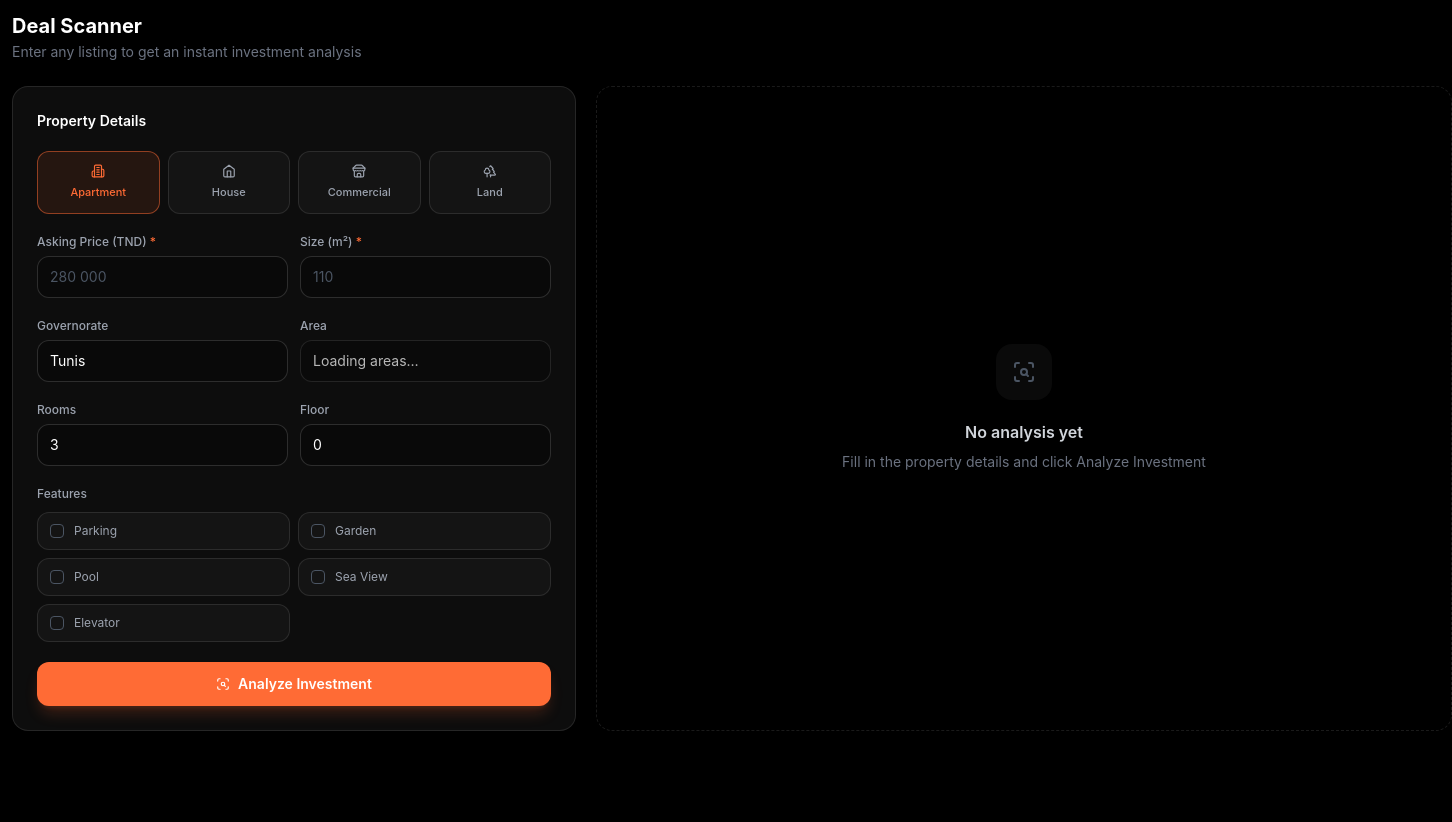
Scenario: ScannerPage result › shows a falling forecast with its sign and real listing counts
The width and height of the screenshot is (1452, 822).
Type "250000" into the number field with placeholder "280 000" at (162, 276), box [37, 256, 288, 298]
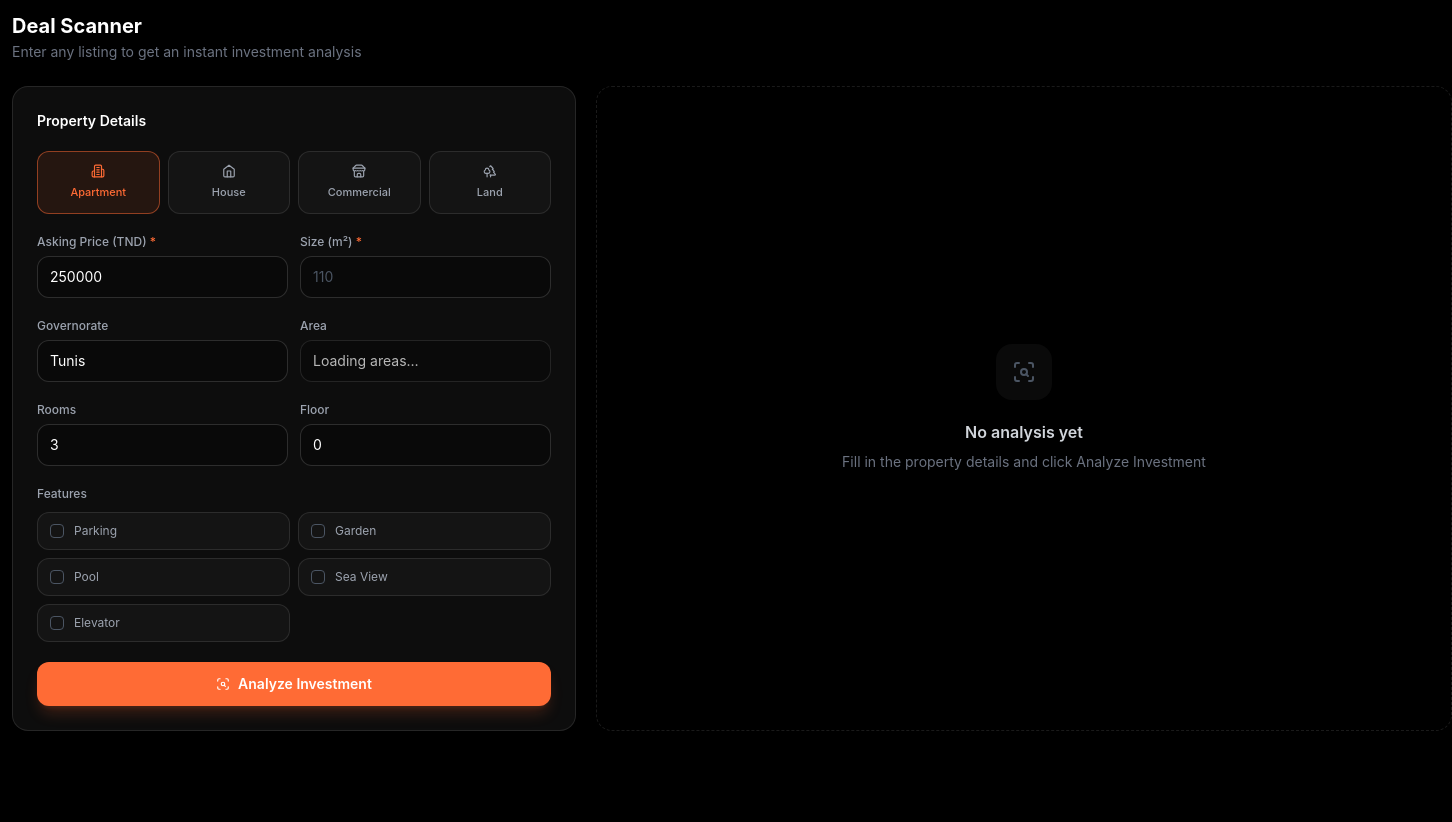
Type "100" into the number field with placeholder "110" at (426, 276), box [300, 256, 551, 298]
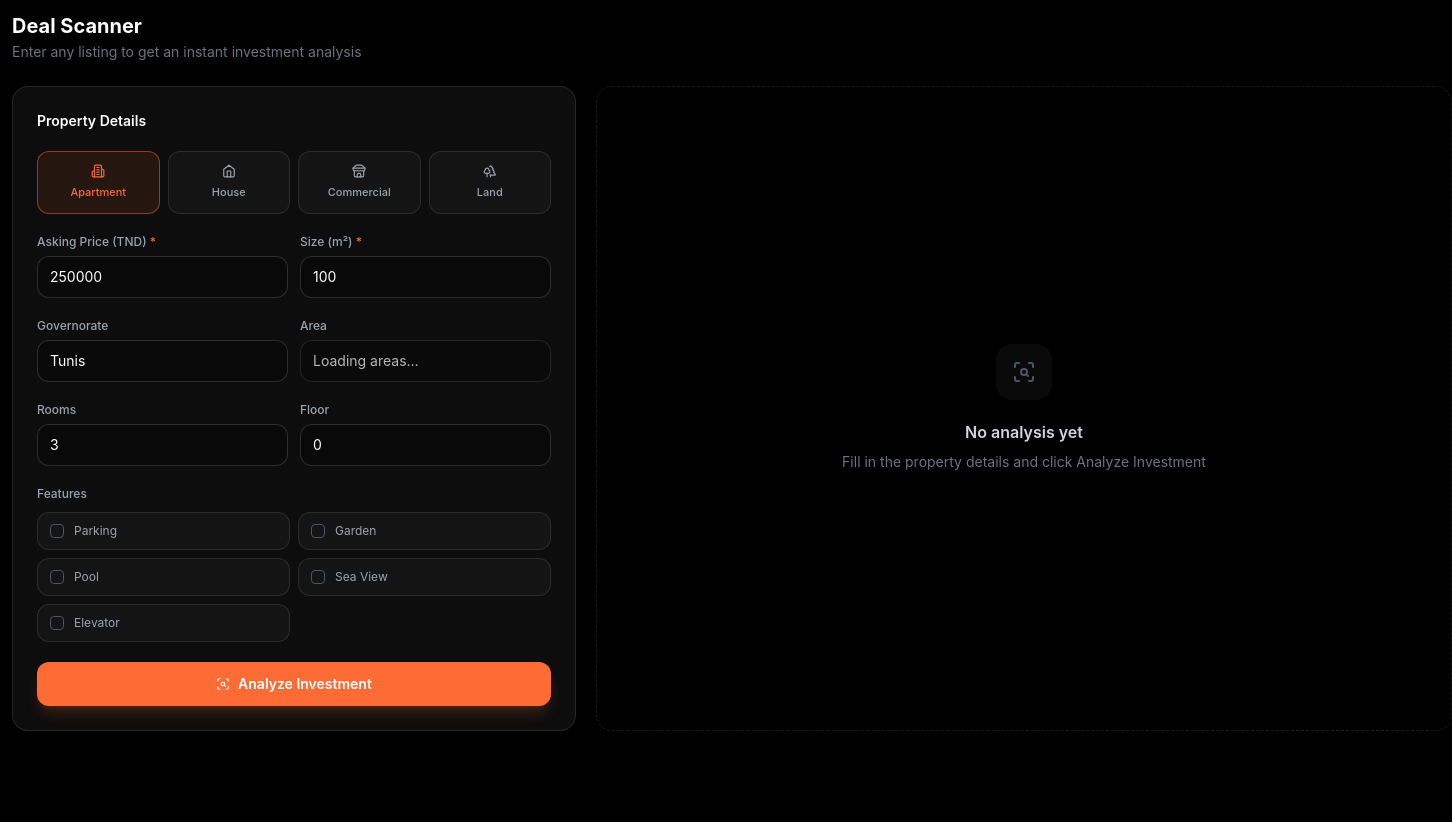
Click the button "Analyze Investment" at (294, 684), box [37, 662, 551, 706]
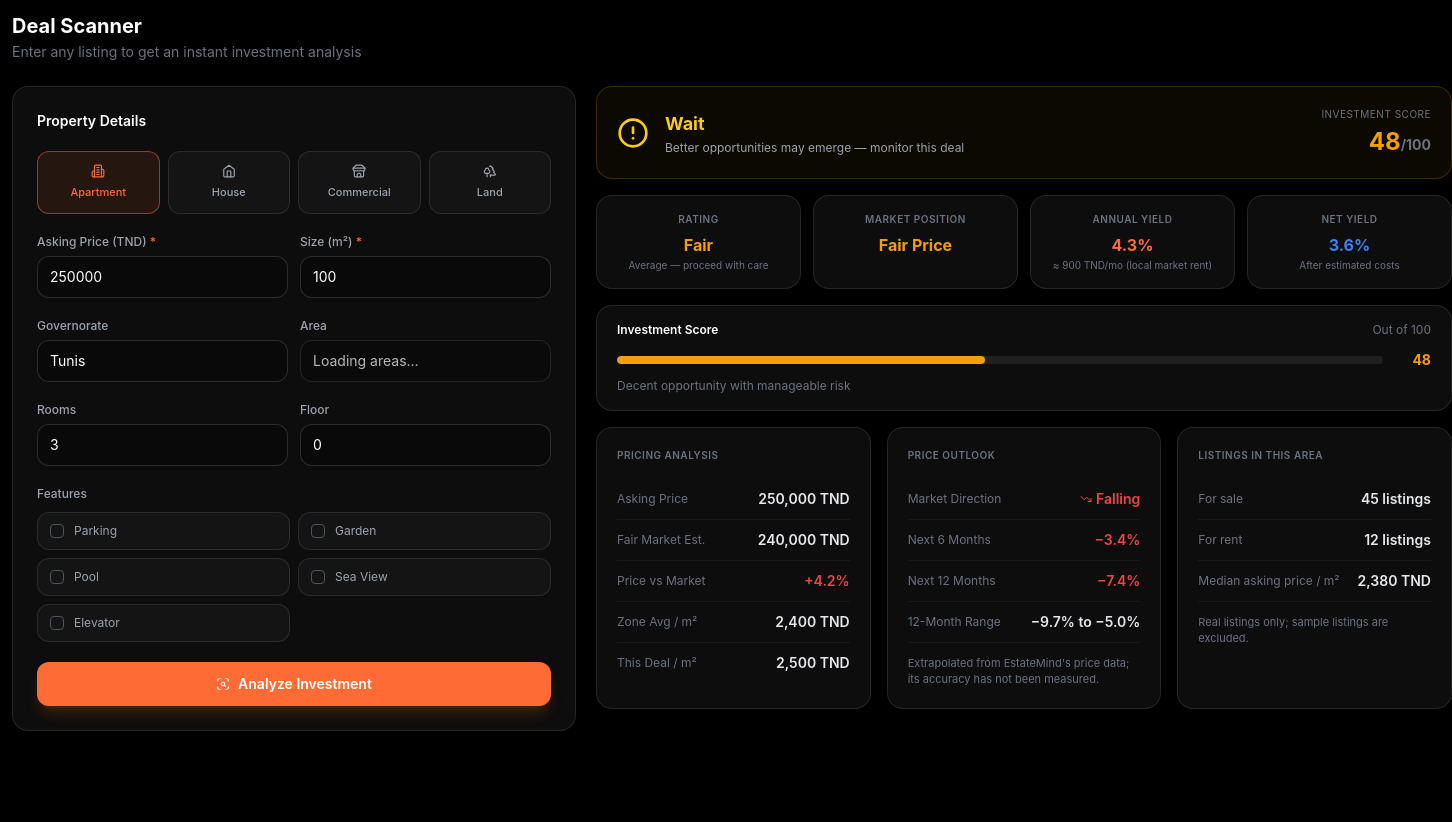
Now the text "−7.4%" is shown, box [1097, 570, 1140, 590]
Now the text "Falling" is shown, box [1080, 488, 1140, 508]
Now the text "−9.7% to −5.0%" is shown, box [1031, 612, 1140, 632]
